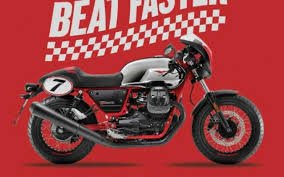motor: (21, 43, 261, 165)
